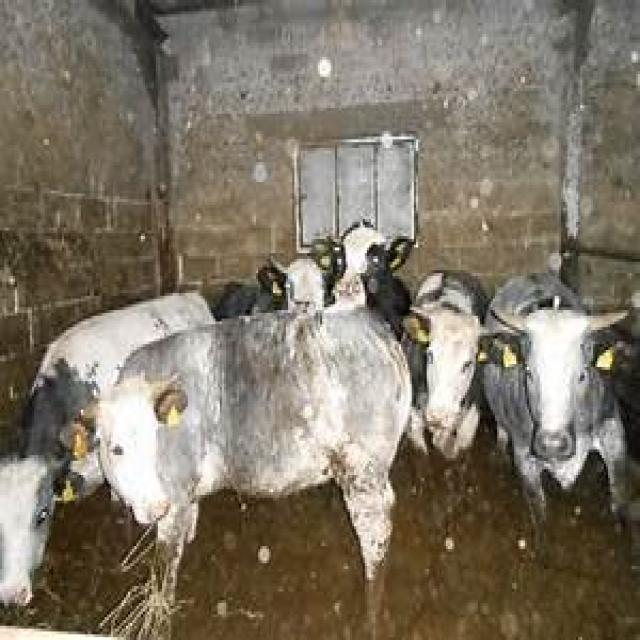cow: (94, 304, 412, 640), (0, 293, 218, 606), (476, 276, 640, 521), (410, 273, 486, 458), (339, 222, 407, 333)
